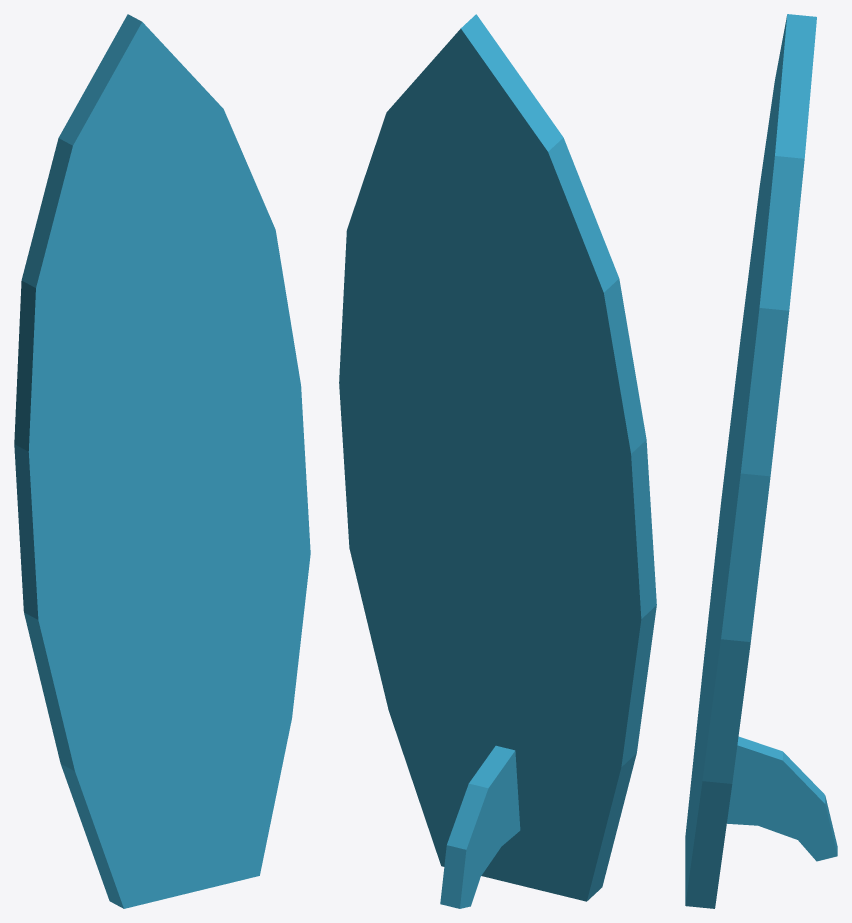
Rendered from Surfboard1.fbx.
The picture shows the model from 3 angles, left to right: view 1: azimuth 30°, elevation 25°; view 2: azimuth 150°, elevation 25°; view 3: azimuth 270°, elevation 25°; orthographic projection. The views are drawn at different scales.
Parts seen in each view (by area): view 1: Surfboard1; view 2: Surfboard1; view 3: Surfboard1.
Part boxes in pixels (<box>): Surfboard1: <box>14,14,310,908</box>; Surfboard1: <box>339,14,656,908</box>; Surfboard1: <box>685,14,837,908</box>.
Size of the model in its own units: 0.68 by 2 by 0.3207.
